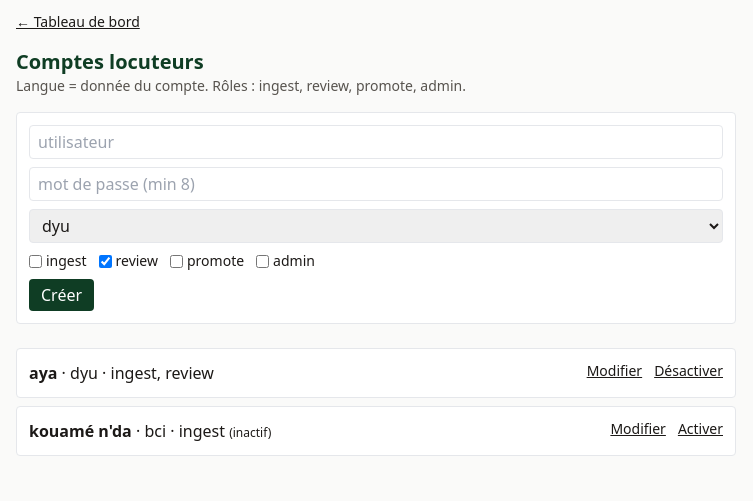
Test case: AdminView — creation de compte › poste les roles reellement coches et recharge la liste
This screenshot has width=753, height=501.
Type "fanta" into the field with placeholder "utilisateur" at [376, 142], box [29,125,723,159]
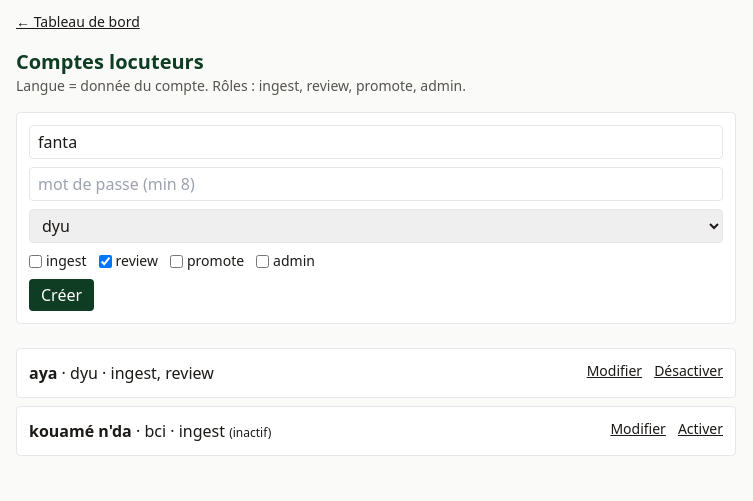
Type "motdepasse8" into the password field with placeholder "mot de passe (min 8)" at [376, 184], box [29,167,723,201]
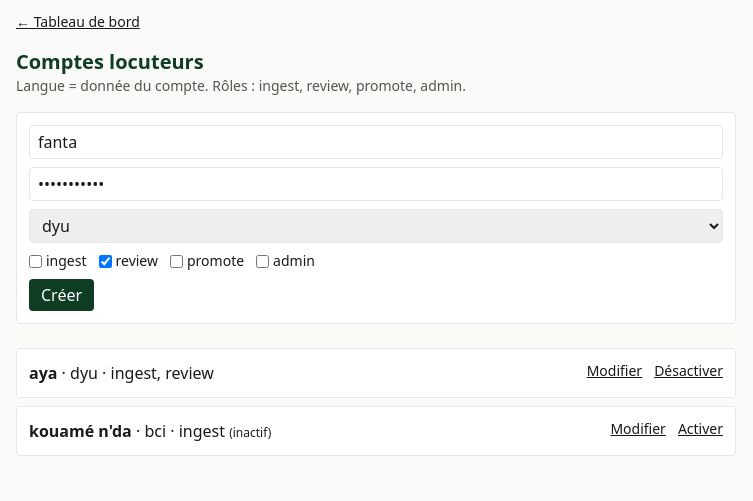
Click the checkbox labelled "promote" at [176, 261], box [170,254,183,268]
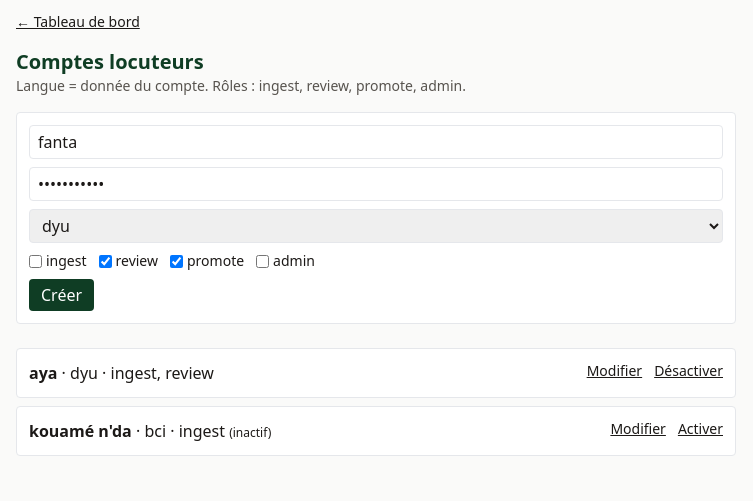
Submit the form, box [16,112,736,324]
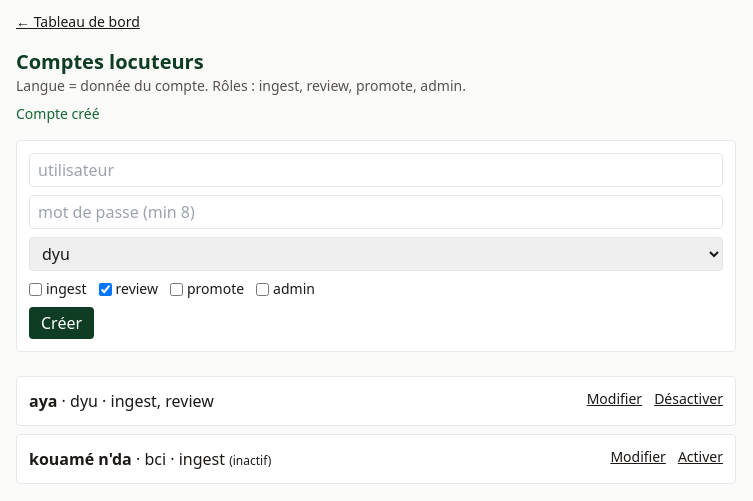
Now the text "Compte créé" is shown, box [16,104,100,123]
Now the field with placeholder "utilisateur" is empty, box [29,153,723,187]
